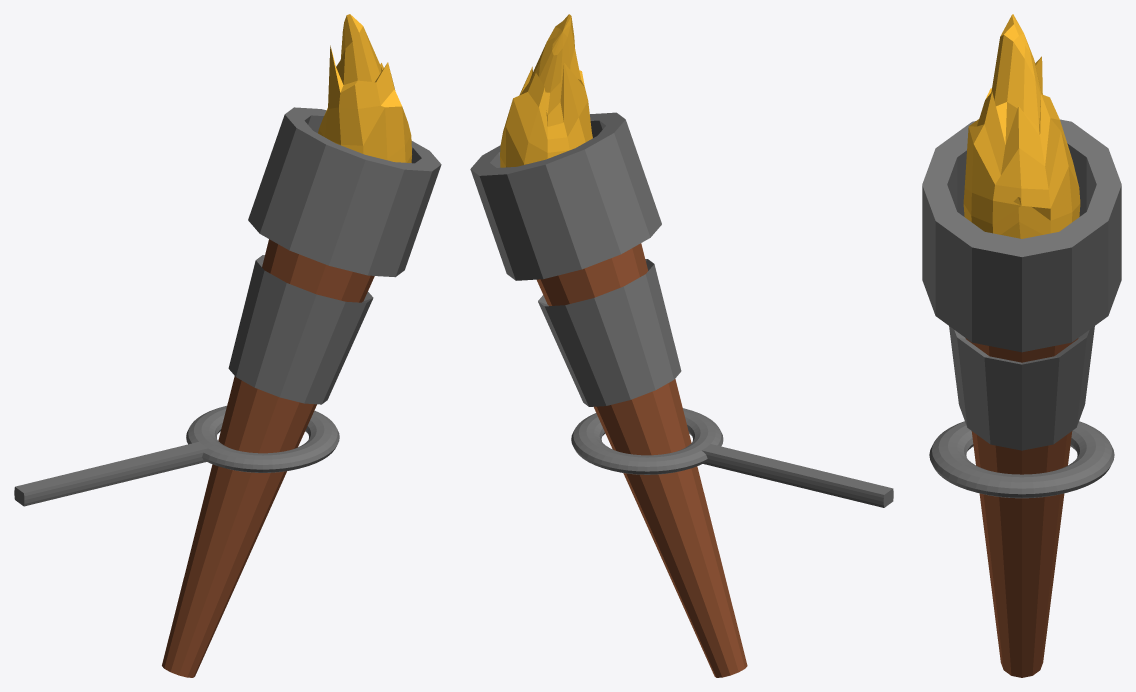
File: dungeon.fbx
3 renders of one model, left to right at view 1: azimuth 30°, elevation 25°; view 2: azimuth 150°, elevation 25°; view 3: azimuth 270°, elevation 25°, orthographic. The views are drawn at different scales.
Parts seen in each view (by area): view 1: Sphere; view 2: Sphere; view 3: Sphere.
Boxes of the visible parts, x1,y1,x2,y2 form: Sphere: [14, 14, 441, 677]; Sphere: [470, 14, 893, 677]; Sphere: [922, 14, 1121, 677].
Size of the model in its own units: 64.01 by 93.18 by 22.37.
